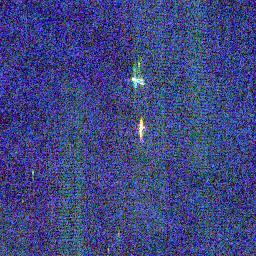Ship: (128, 74, 145, 87), (136, 116, 145, 137)
